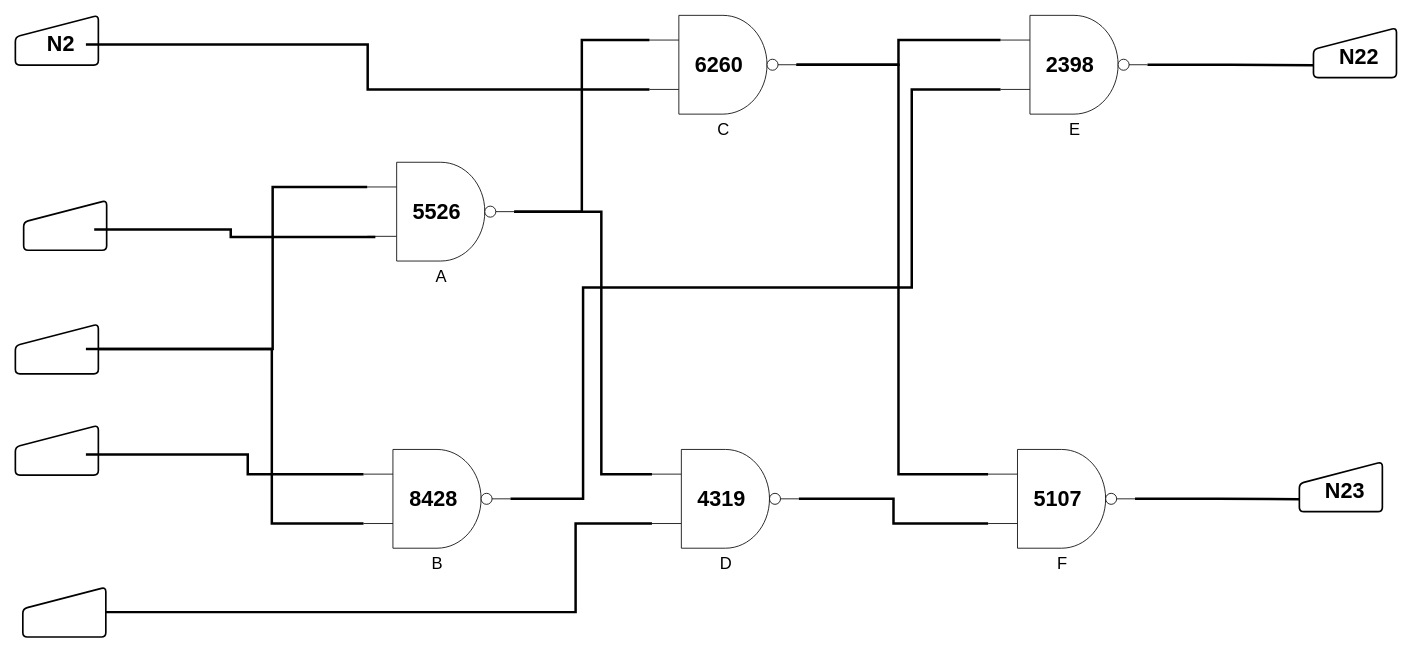
The diagram is 1411 pixels wide and 652 high, and some of its shapes have lost their labels. The box of each missing label's shape, as (x1, y1, x2, y2) in pixels:
N1: (14, 424, 99, 476)
N3: (14, 323, 99, 374)
N6: (22, 199, 107, 251)
N7: (22, 586, 106, 637)
